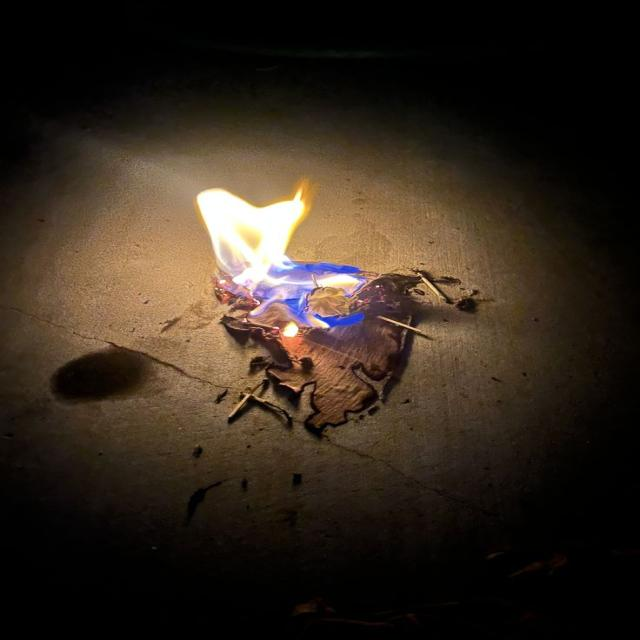fire: (196, 181, 311, 282)
